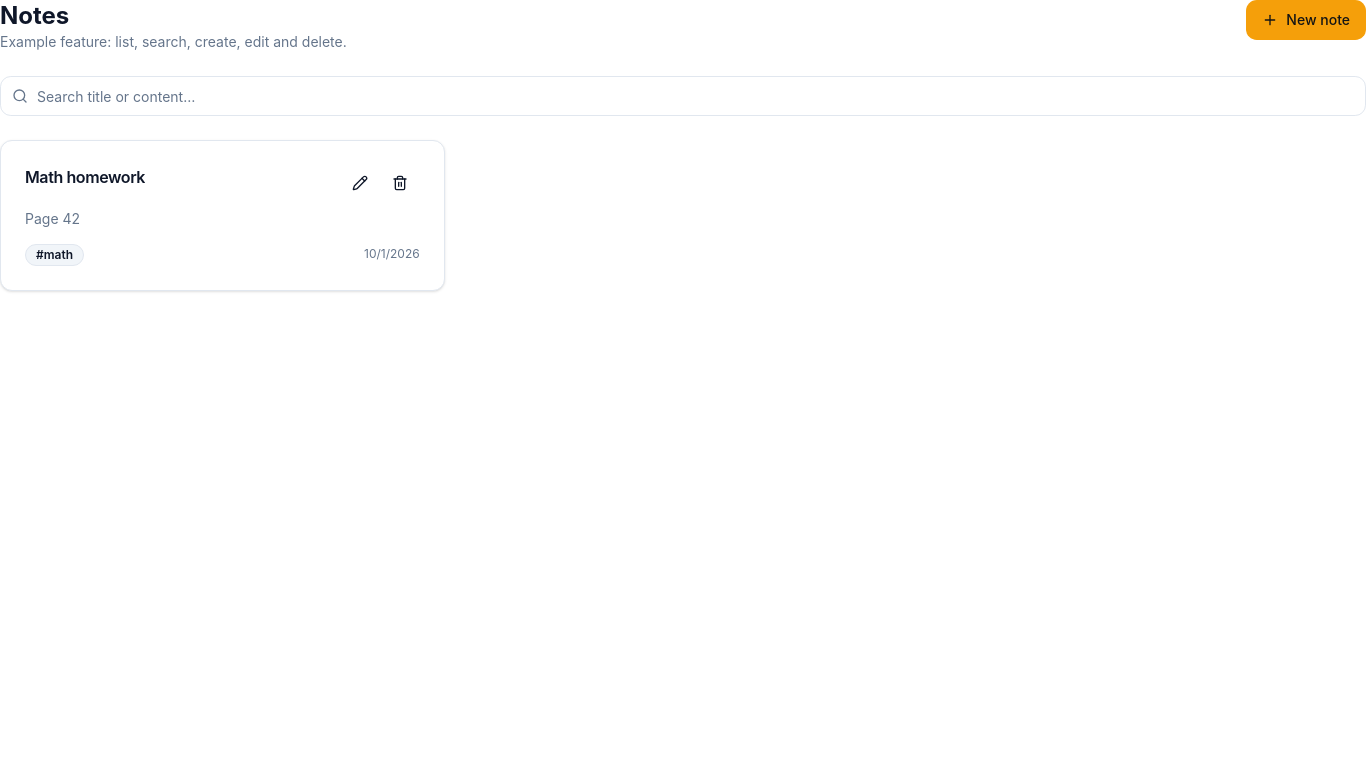
NotesListPage › does not submit without a title
Expected: the heading "Math homework" is shown, x1=25 y1=165 x2=145 y2=189
Click the button "New note".
click(1306, 20)  # box x1=1246 y1=0 x2=1365 y2=40
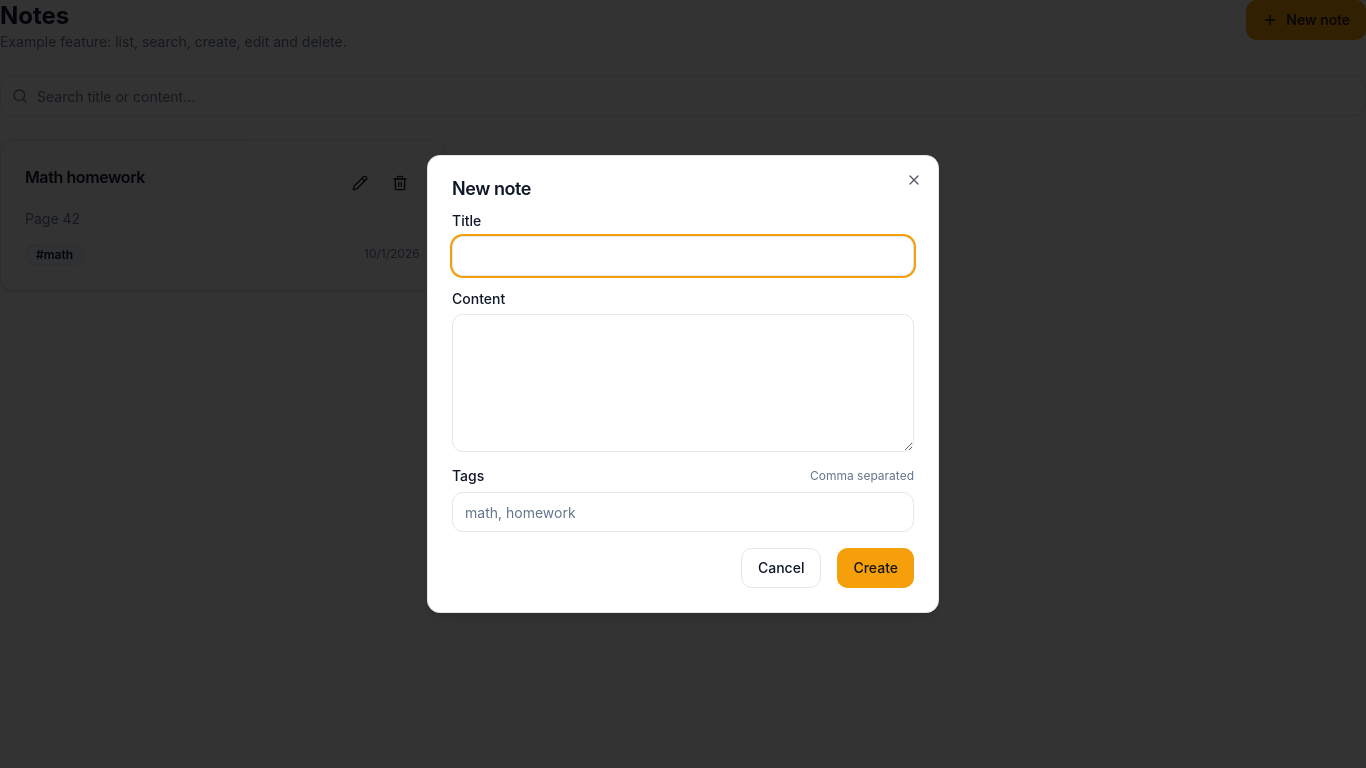
Click the button "Create".
click(876, 568)  # box x1=837 y1=548 x2=914 y2=588
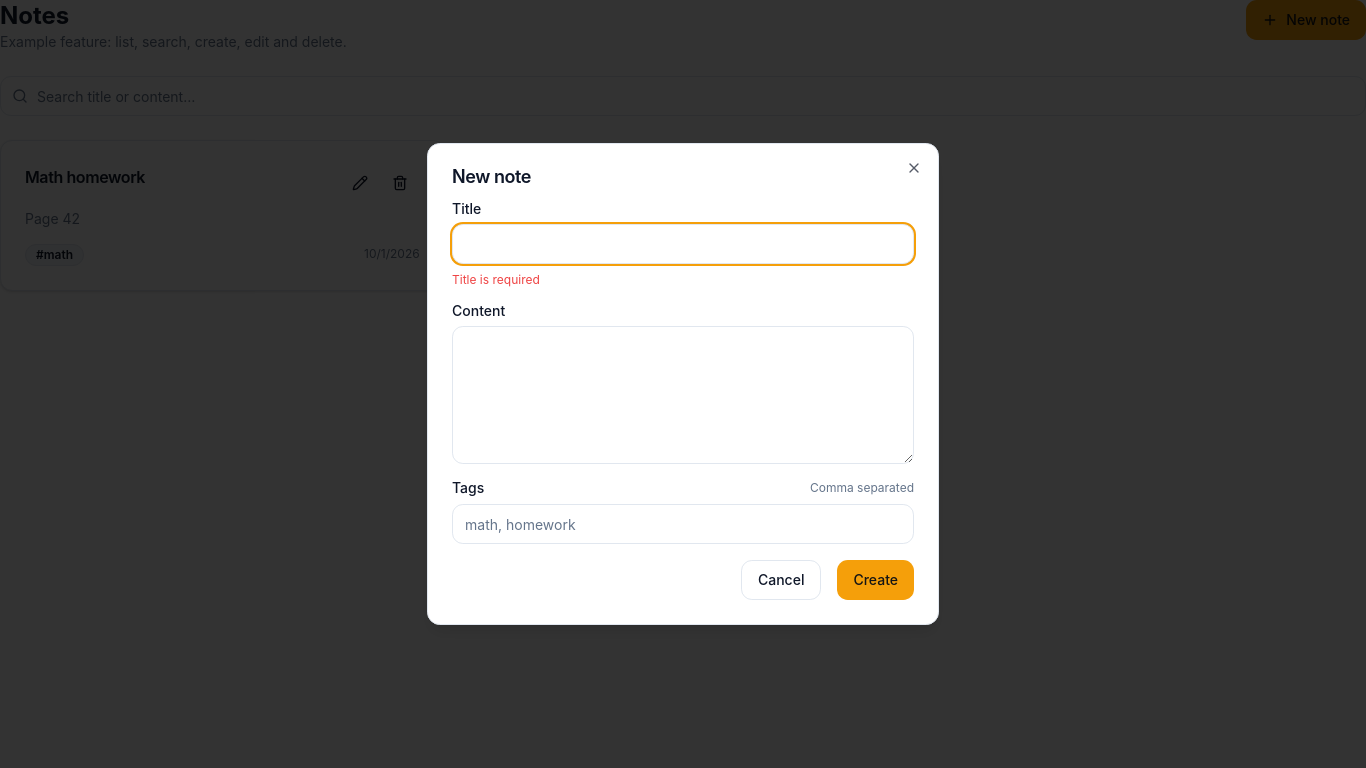
Expected: the text "Title is required" is shown, x1=452 y1=272 x2=540 y2=287
